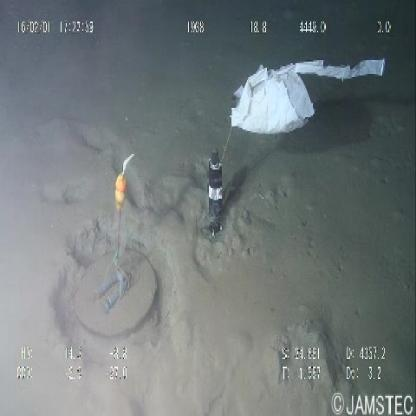Rov: (71, 142, 227, 339)
Rác: (226, 43, 393, 145)
